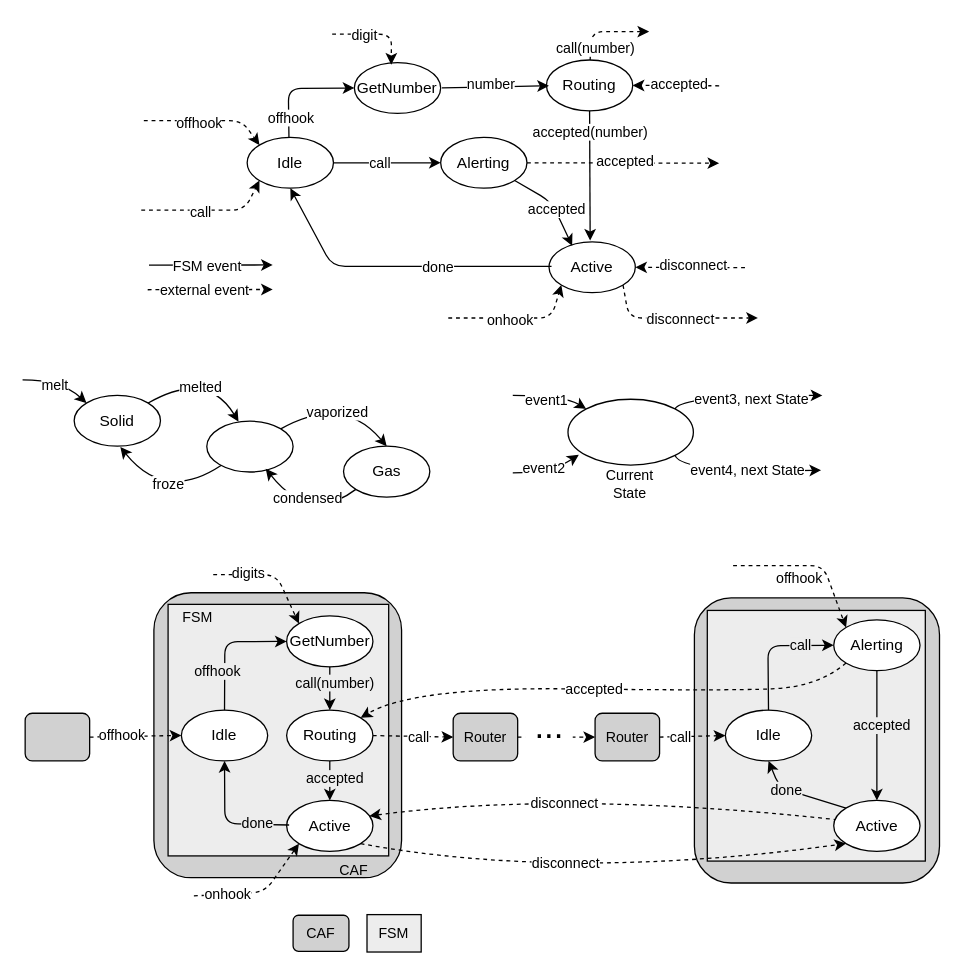
Some shapes in this 962 by 975 pixel diagram are drawn without their labels. Each missing label, with the box of its shape:
event1Handler event2Handler: (567, 398, 693, 465)
Liquid: (205, 420, 293, 472)
Origer: (24, 712, 90, 761)
